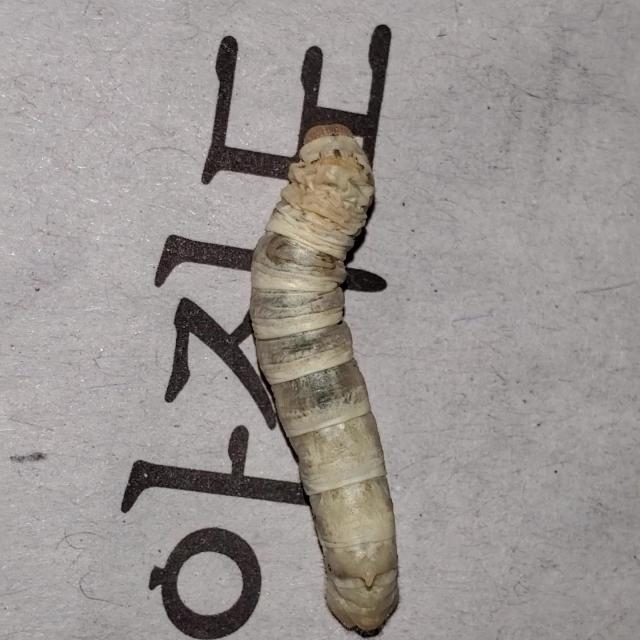Grasserie: (234, 90, 437, 640)
